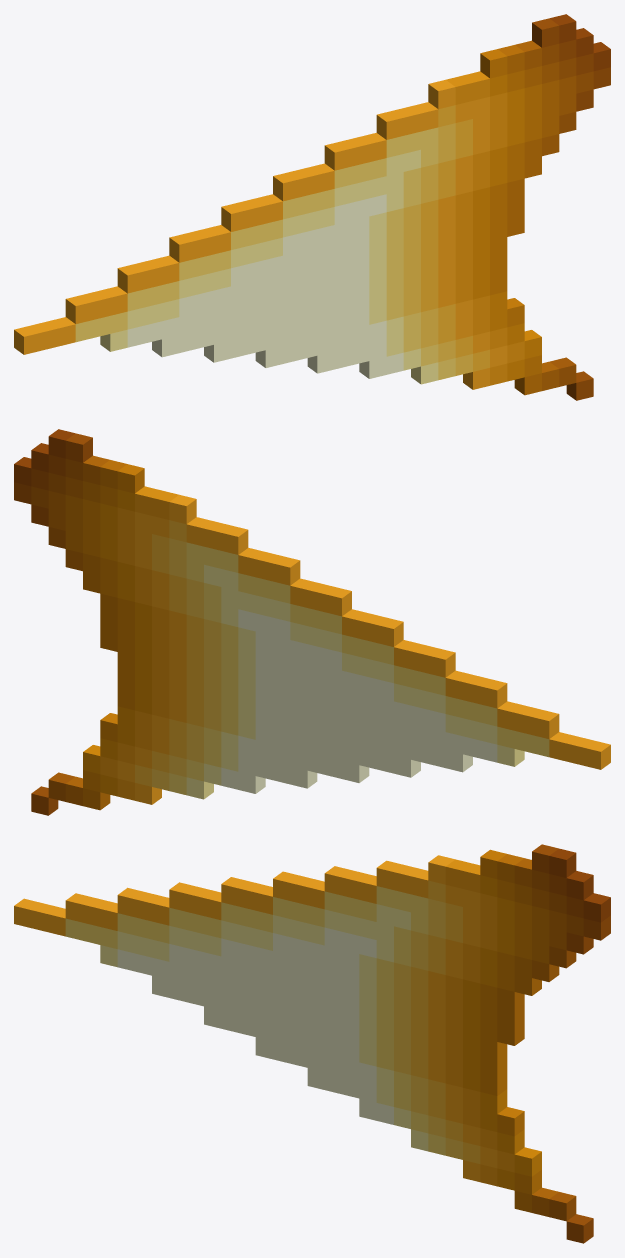
The model's file is Fight_015_2_07_fx.obj.
3 views of the same model, one above another, from view 1: azimuth 30°, elevation 25°; view 2: azimuth 150°, elevation 25°; view 3: azimuth 330°, elevation 25° (orthographic).
Bounding box in the file's own units: 3.4 × 2.1 × 0.1.
1 material, 1 textured.
